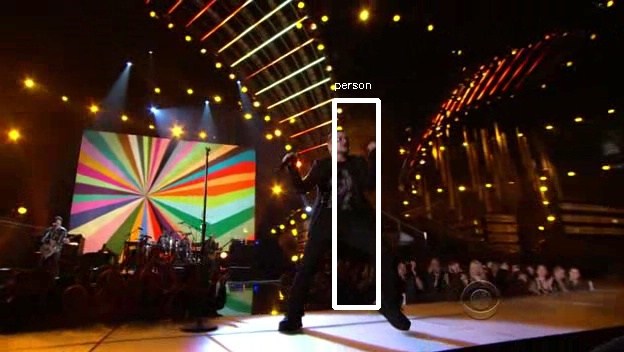person: (309, 130, 374, 248), (306, 130, 371, 248), (312, 130, 377, 248), (309, 127, 374, 245), (309, 133, 374, 251)
target_negative: (54, 92, 297, 262), (413, 92, 519, 223), (455, 39, 500, 320), (369, 261, 530, 295), (569, 214, 594, 322), (304, 350, 542, 352)
